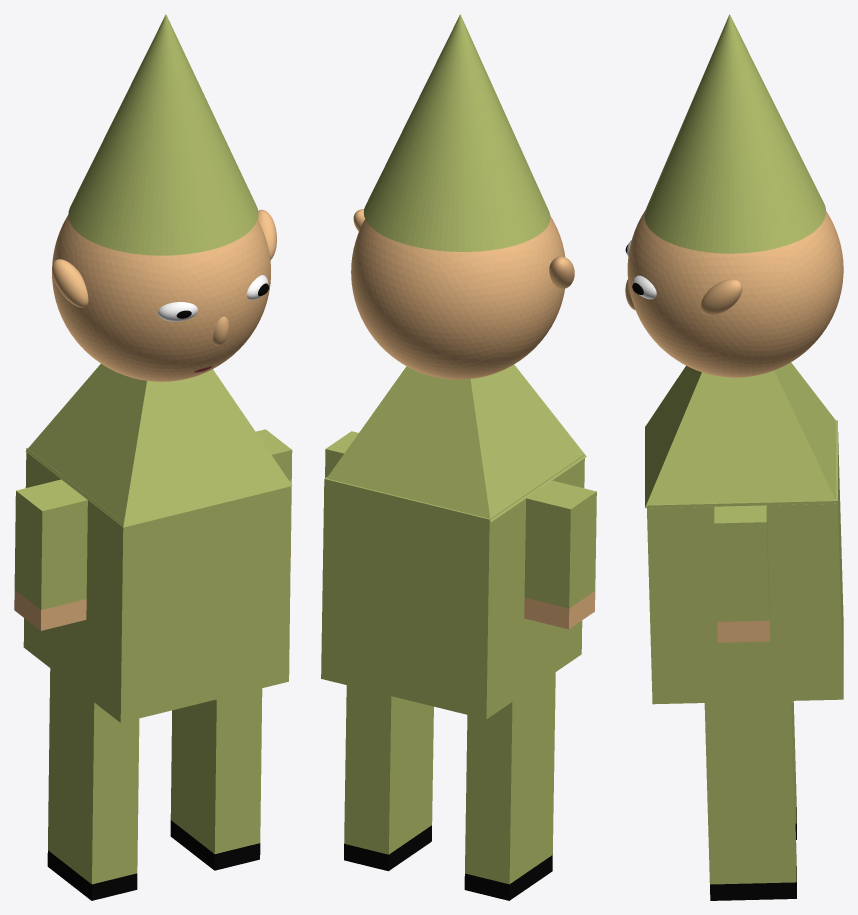
The model's file is gnomeChild.obj.
The picture shows the model from 3 angles, left to right: view 1: azimuth 30°, elevation 25°; view 2: azimuth 150°, elevation 25°; view 3: azimuth 270°, elevation 25°; orthographic projection.
Visible parts, largest first — view 1: Object.4, Object.3, Object.1, Object.2, Object.6, Object.5, Object.7, Object.10, Object.11, Object.12, Object.20, Object.8; view 2: Object.4, Object.3, Object.1, Object.2, Object.6, Object.5, Object.7, Object.10, Object.11, Object.12, Object.20, Object.8; view 3: Object.4, Object.1, Object.3, Object.2, Object.5, Object.8, Object.12, Object.9, Object.19.
Boxes of the visible parts, x1,y1,x2,y2 form: Object.4: [23, 447, 291, 722]; Object.3: [25, 364, 292, 527]; Object.1: [68, 14, 258, 255]; Object.2: [52, 215, 270, 381]; Object.6: [48, 668, 139, 884]; Object.5: [170, 688, 262, 853]; Object.7: [14, 479, 87, 609]; Object.10: [14, 590, 86, 630]; Object.11: [47, 850, 137, 900]; Object.12: [170, 820, 260, 870]; Object.20: [52, 259, 88, 307]; Object.8: [256, 429, 292, 548]; Object.4: [321, 454, 584, 719]; Object.3: [327, 364, 586, 522]; Object.1: [363, 14, 550, 251]; Object.2: [351, 216, 565, 379]; Object.6: [465, 661, 555, 884]; Object.5: [344, 685, 433, 854]; Object.7: [524, 480, 596, 608]; Object.10: [524, 591, 595, 629]; Object.11: [464, 855, 552, 900]; Object.12: [344, 825, 431, 871]; Object.20: [549, 256, 574, 289]; Object.8: [325, 431, 358, 477]; Object.4: [646, 420, 843, 704]; Object.1: [644, 14, 826, 253]; Object.3: [645, 362, 836, 508]; Object.2: [627, 210, 843, 377]; Object.5: [704, 701, 796, 884]; Object.8: [714, 505, 769, 621]; Object.12: [710, 866, 796, 900]; Object.9: [717, 613, 769, 642]; Object.19: [700, 279, 742, 315].
Size of the model in its own units: 52.66 by 173 by 40.39.
